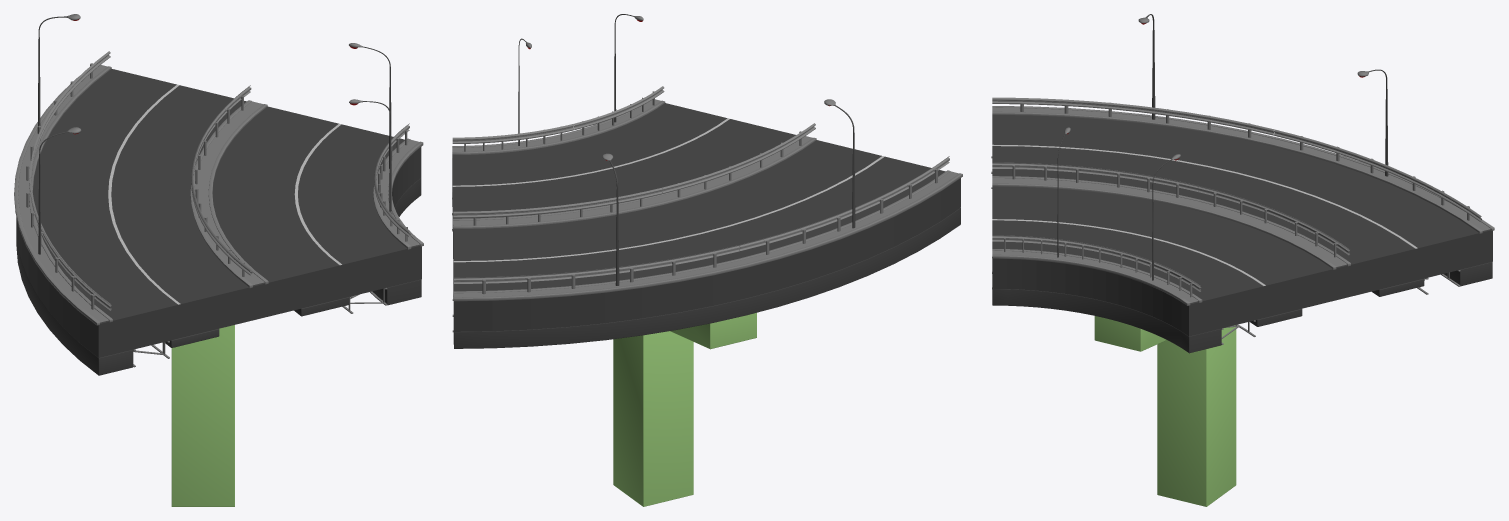
The model's file is SM_highway_platform_curve_60.fbx.
The picture shows the model from 3 angles, left to right: view 1: azimuth 30°, elevation 25°; view 2: azimuth 150°, elevation 25°; view 3: azimuth 270°, elevation 25°; orthographic projection. The views are drawn at different scales.
Visible parts, largest first — view 1: Object1284855; view 2: Object1284855; view 3: Object1284855.
Part boxes in pixels (x1,y1,x2,y2): Object1284855: [14, 14, 423, 506]; Object1284855: [452, 14, 962, 506]; Object1284855: [991, 14, 1494, 506].
Bounding box in the file's own units: 1186 × 1118 × 1276.
